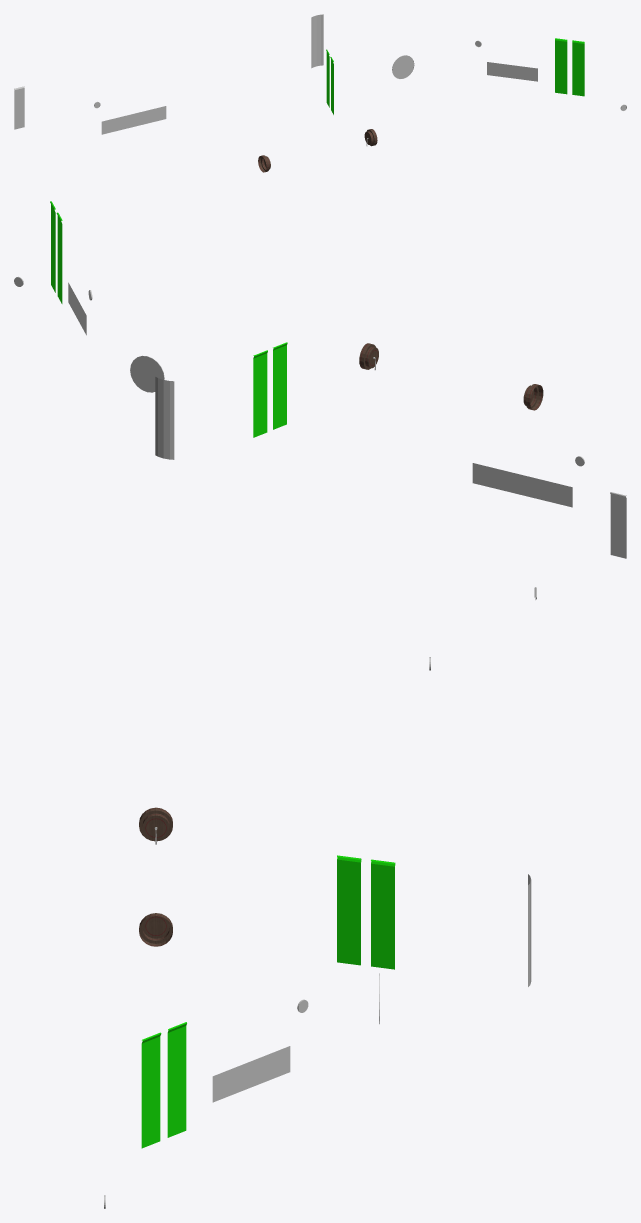
File: SM_ENV_KNVLLG_AreaH_Building_A_Signs.mo.fbx
3 views of the same model, one above another, from view 1: azimuth 30°, elevation 25°; view 2: azimuth 150°, elevation 25°; view 3: azimuth 270°, elevation 25° (orthographic). The views are drawn at different scales.
Parts seen in each view (by area): view 1: SM_ENV_KNVLLG_AreaH_Building_A_Signs.mo; view 2: SM_ENV_KNVLLG_AreaH_Building_A_Signs.mo; view 3: SM_ENV_KNVLLG_AreaH_Building_A_Signs.mo.
Boxes of the visible parts, <box> form: SM_ENV_KNVLLG_AreaH_Building_A_Signs.mo: <box>14,14,626,172</box>; SM_ENV_KNVLLG_AreaH_Building_A_Signs.mo: <box>14,201,626,558</box>; SM_ENV_KNVLLG_AreaH_Building_A_Signs.mo: <box>104,587,536,1208</box>.
Bounding box in the file's own units: 68.25 × 8.98 × 25.35.
